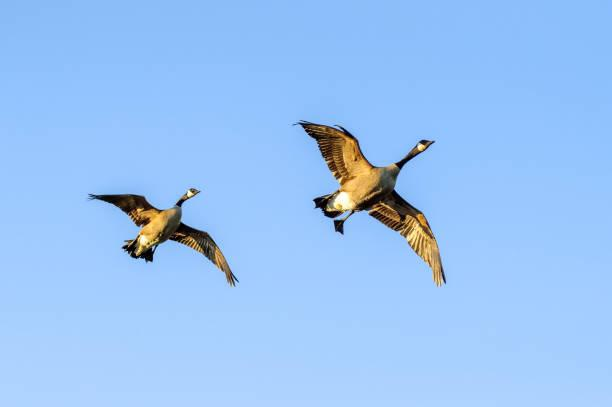Canadian-Goose: (291, 112, 448, 284), (90, 181, 242, 286)
